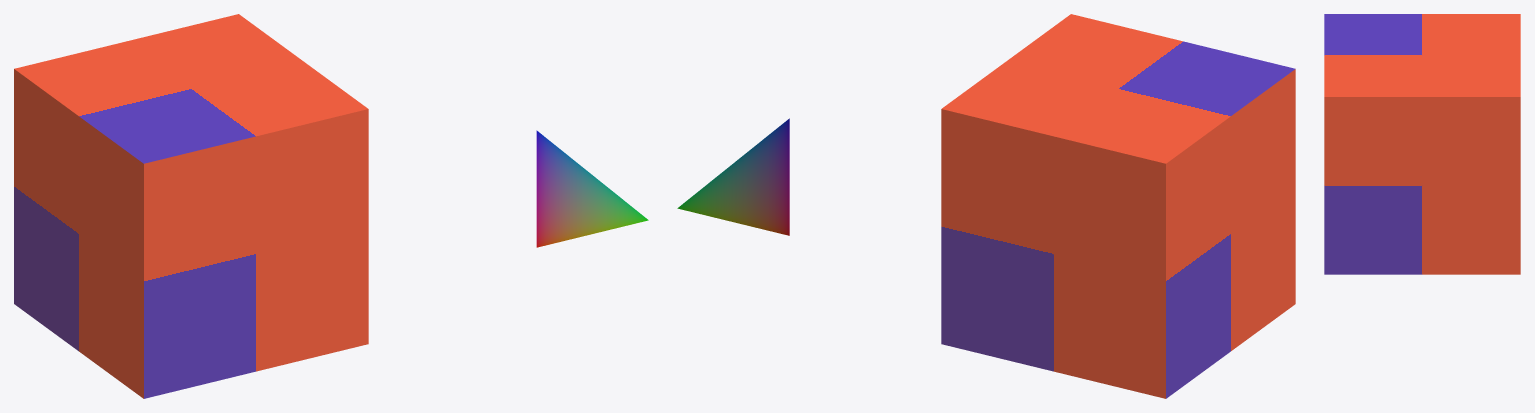
File: model_meshopt.glb
3 renders of one model, left to right at view 1: azimuth 30°, elevation 25°; view 2: azimuth 150°, elevation 25°; view 3: azimuth 270°, elevation 25°, orthographic. The views are drawn at different scales.
Visible parts, largest first — view 1: Box, Tri; view 2: Box, Tri; view 3: Box.
Part boxes in pixels (x1,y1,x2,y2): Box: (14, 14, 368, 398); Tri: (536, 130, 648, 247); Box: (941, 14, 1295, 398); Tri: (677, 118, 789, 235); Box: (1324, 14, 1520, 274).
Bounding box in the file's own units: 5 × 2 × 2.
2 materials, 1 textured.
